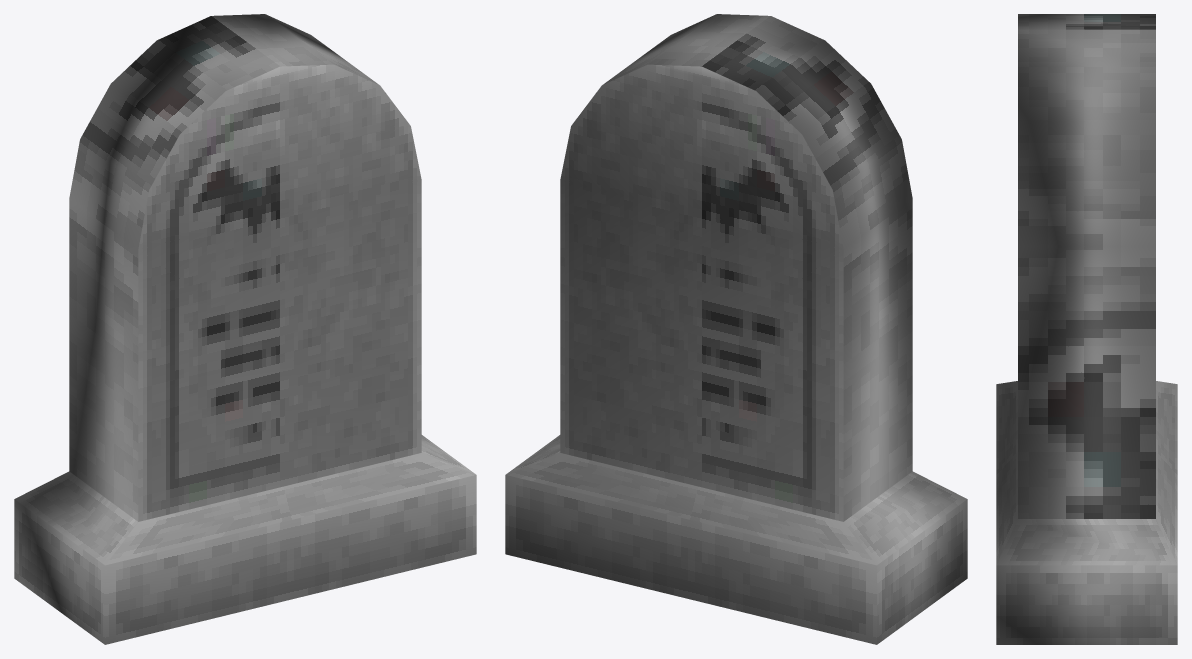
Rendered from int_hor_bosekiA.dae.
3 views of the same model, side by side, from view 1: azimuth 30°, elevation 25°; view 2: azimuth 150°, elevation 25°; view 3: azimuth 270°, elevation 25° (orthographic).
Visible parts, largest first — view 1: int_hor_bosekiA; view 2: int_hor_bosekiA; view 3: int_hor_bosekiA.
Part boxes in pixels (bbox=[...]): int_hor_bosekiA: bbox=[14, 14, 476, 644]; int_hor_bosekiA: bbox=[505, 14, 967, 644]; int_hor_bosekiA: bbox=[996, 14, 1177, 644].
Bounding box in the file's own units: 25.68 × 34.69 × 10.86.
1 material, 1 textured.
